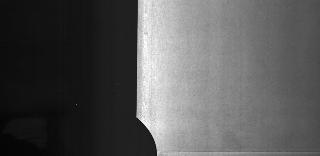welding line: (156, 146, 320, 156)
